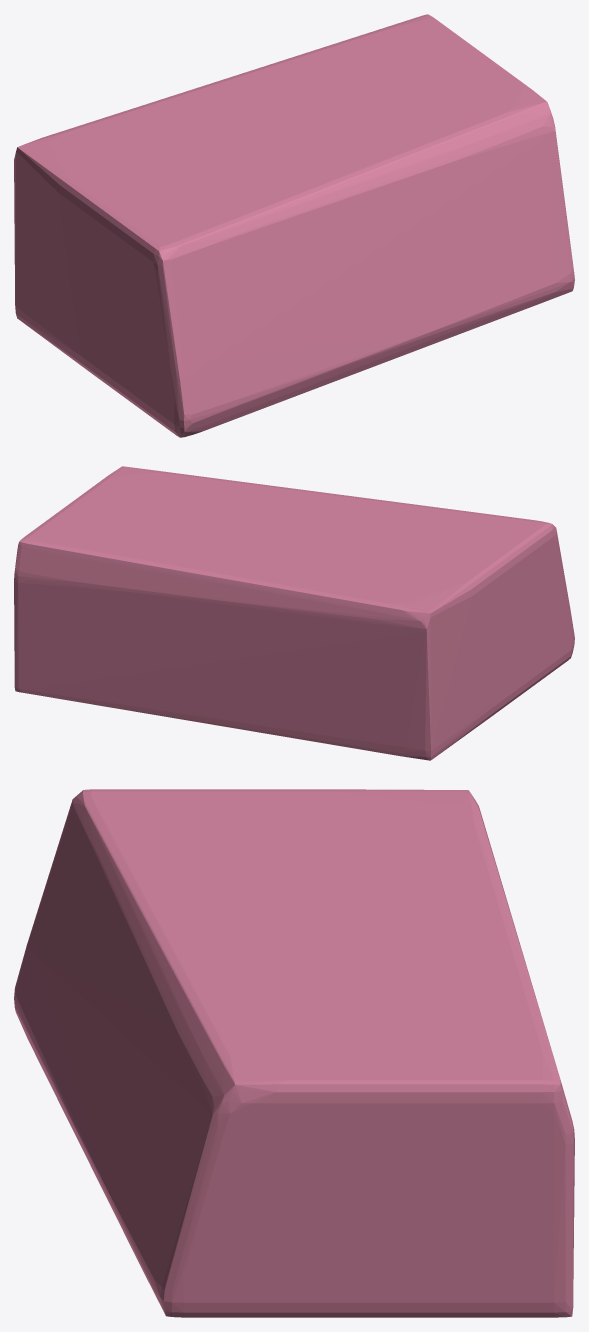
File: left-elbow-0_part_24.obj
The picture shows the model from 3 angles, top to bottom: view 1: azimuth 30°, elevation 25°; view 2: azimuth 150°, elevation 25°; view 3: azimuth 270°, elevation 25°; orthographic projection. The views are drawn at different scales.
Bounding box in the file's own units: 0.0556 × 0.0204 × 0.0441.
